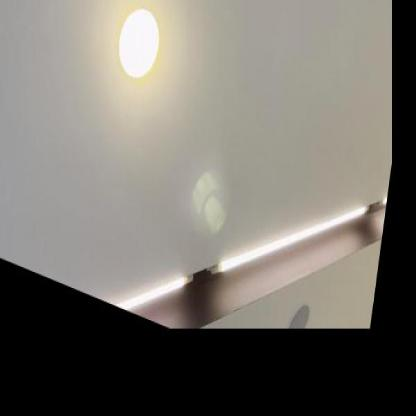light_on: (211, 142, 362, 332), (105, 233, 200, 338), (110, 0, 170, 106)
